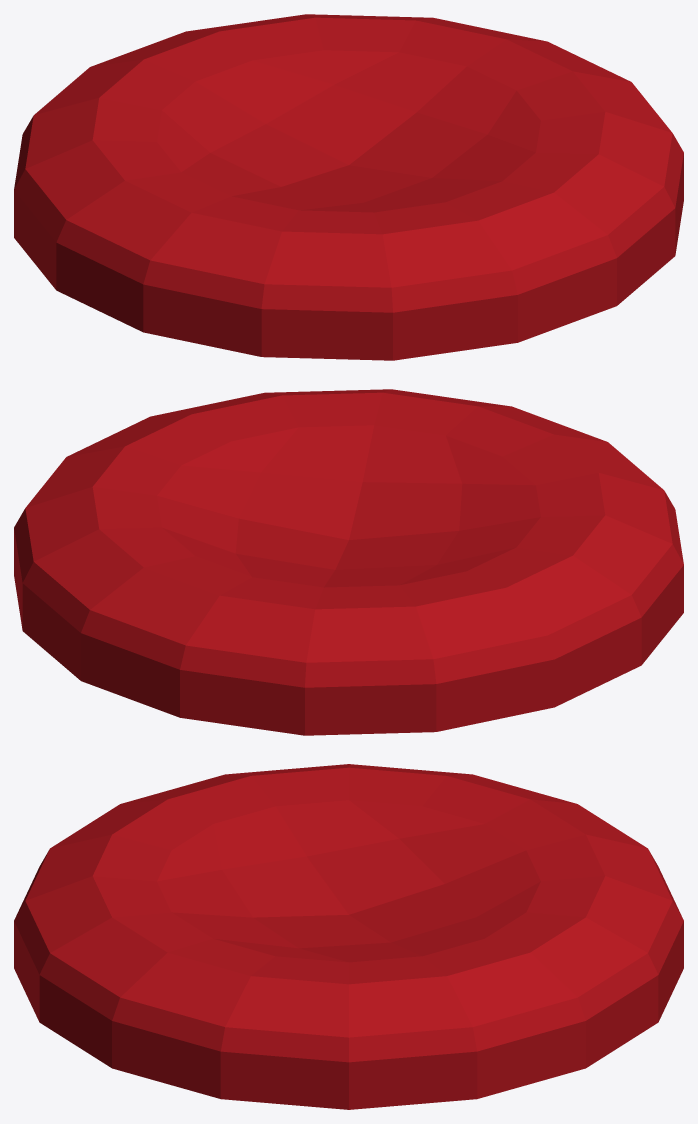
The model's file is BUTTON UP.fbx.
3 renders of one model, top to bottom at view 1: azimuth 30°, elevation 25°; view 2: azimuth 150°, elevation 25°; view 3: azimuth 270°, elevation 25°, orthographic.
Visible parts, largest first — view 1: Circle.011; view 2: Circle.011; view 3: Circle.011.
Boxes of the visible parts, x1,y1,x2,y2 form: Circle.011: (14, 14, 683, 360); Circle.011: (14, 389, 683, 735); Circle.011: (14, 764, 683, 1109).
Size of the model in its own units: 53.88 by 10.96 by 53.88.
